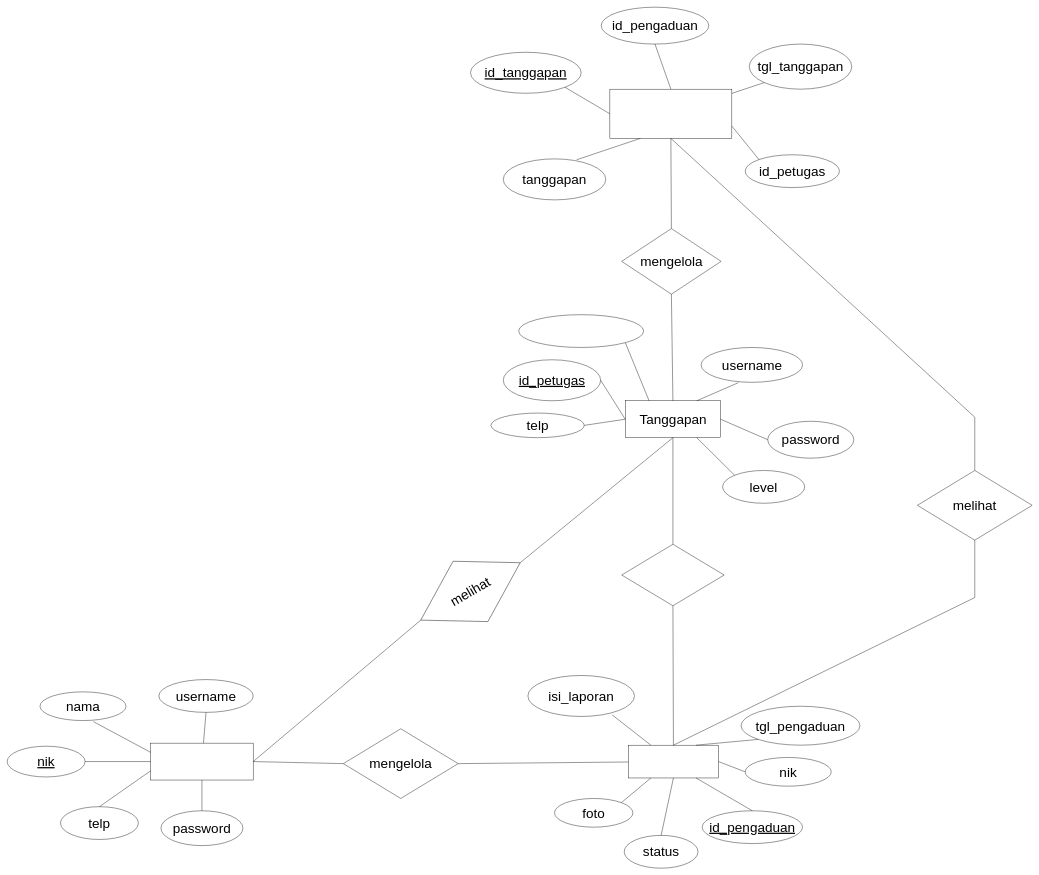
This 1039x875 diagram has some shape labels left out. Each missing label, with the centre of its shape:
Masyarakat: the point at 201,761
merespon: the point at 672,575
nama_petugas: the point at 581,330
Pengaduan: the point at 673,761
Petugas & Admin: the point at 670,113
